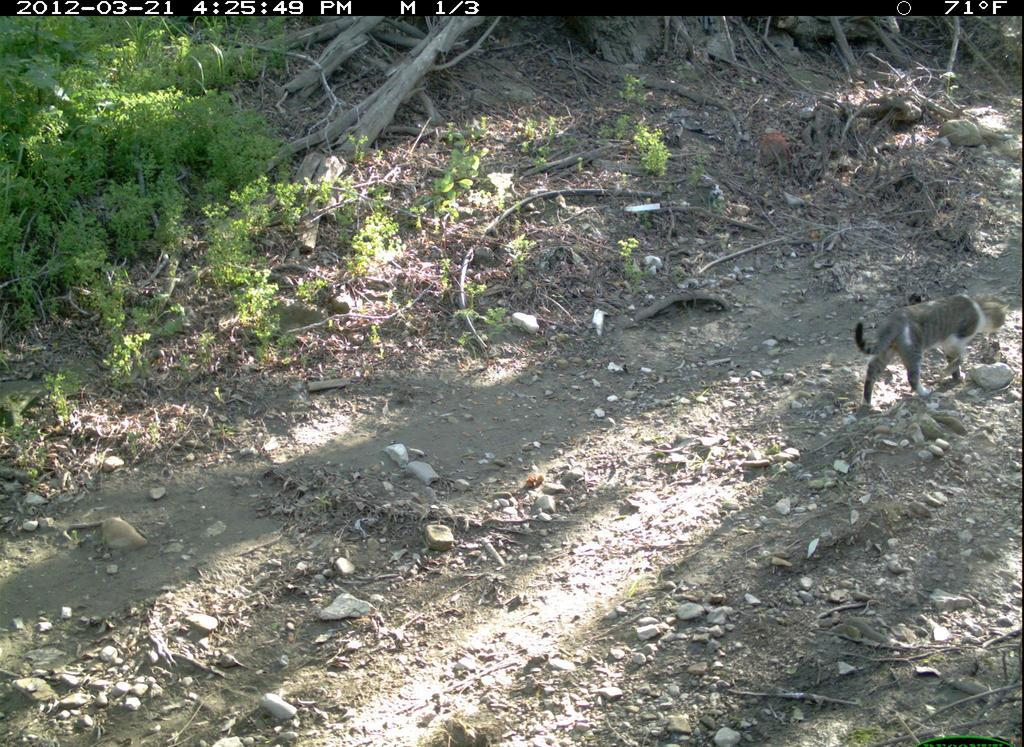cat: (847, 280, 1013, 414)
